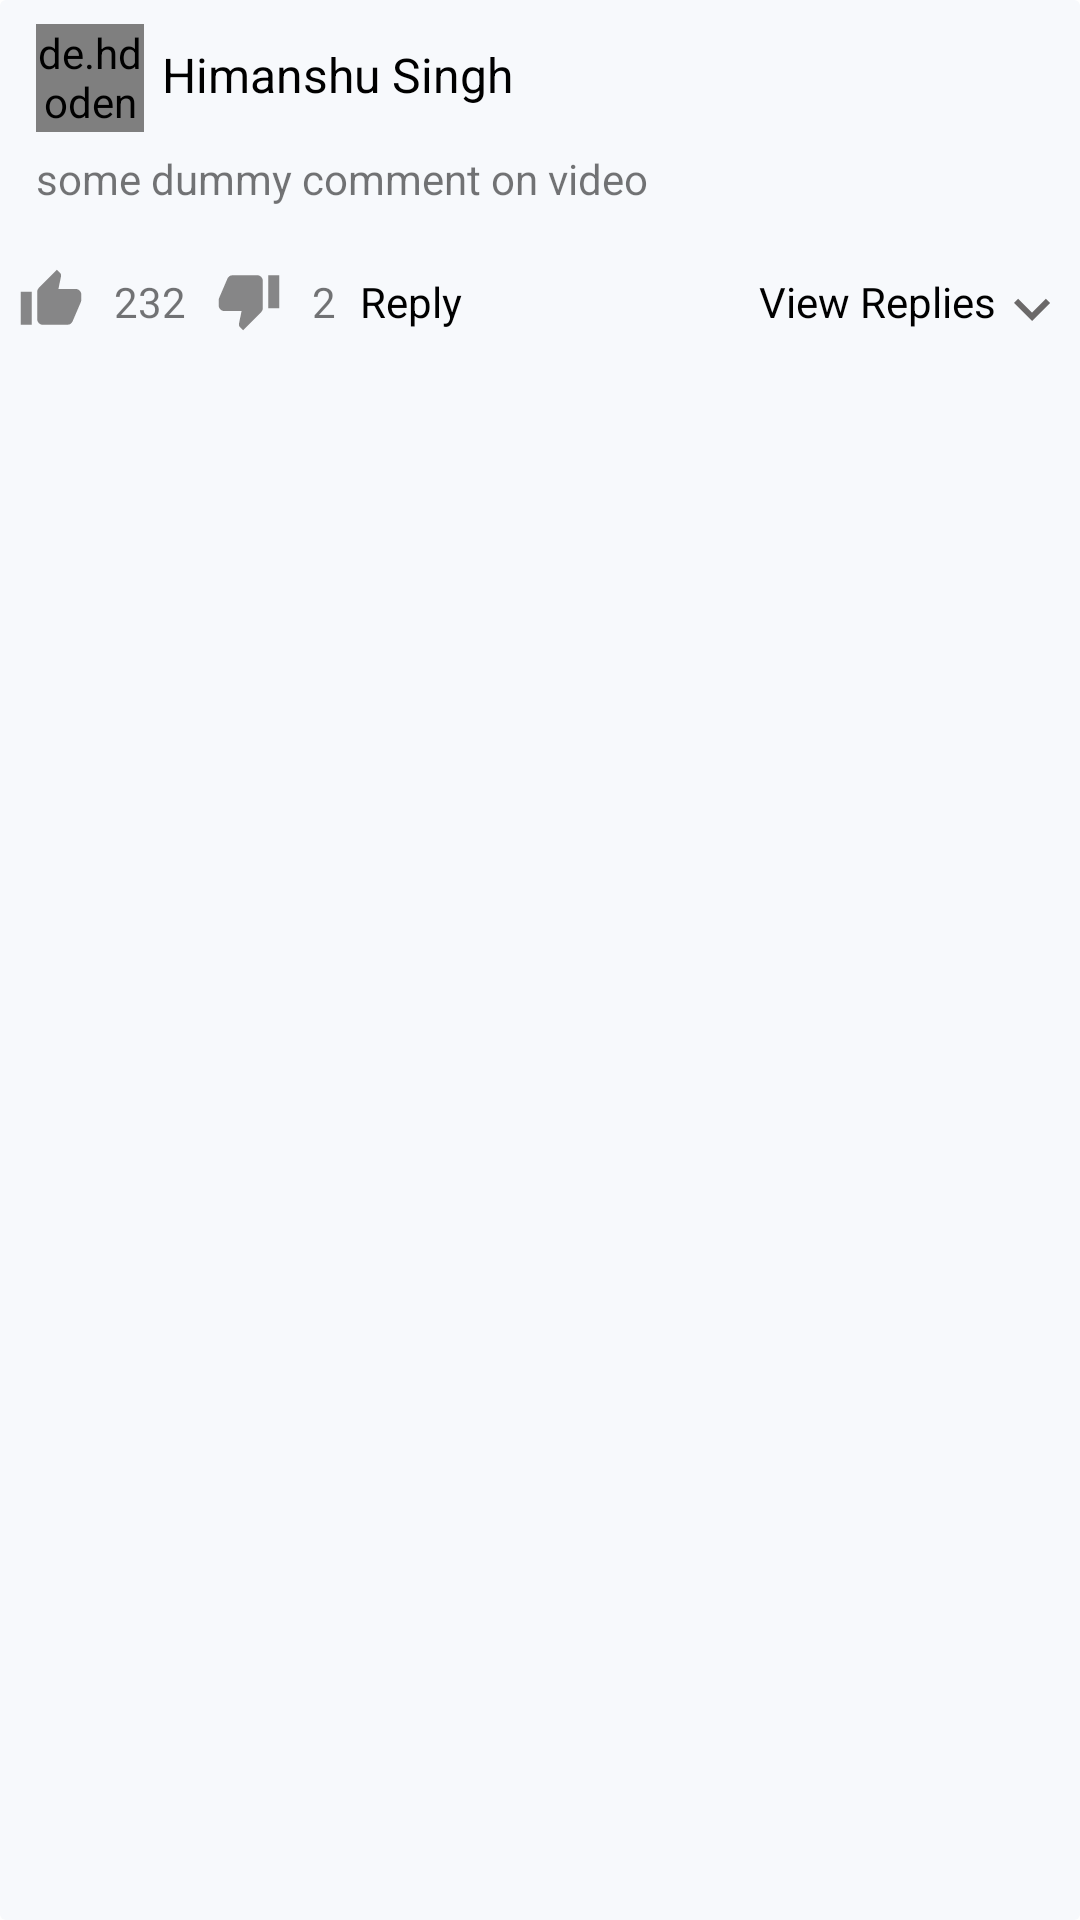

Locate icon controls on the screen. Image size 1080 x 1920, boxes as (x1, y1, x2, y2).
thumb down: (218, 275, 280, 330)
thumb up: (20, 270, 82, 325)
